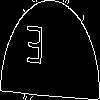E: (25, 25, 44, 74)
